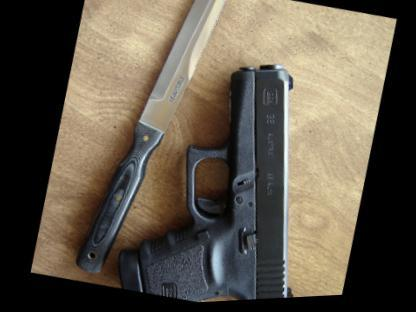pistol: (104, 33, 348, 307)
